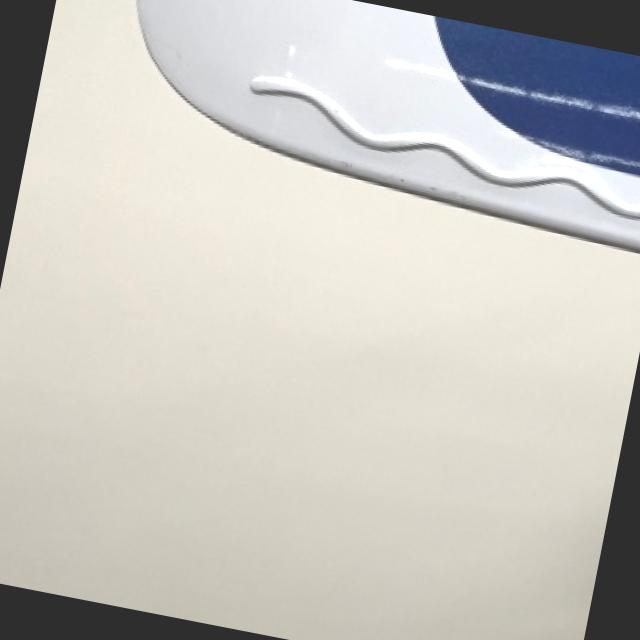healthy: (142, 0, 640, 248)
